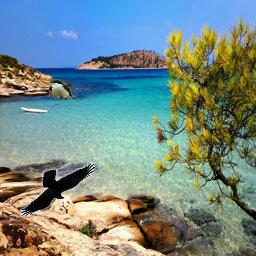Crow: (21, 163, 96, 218)
Swallow: (50, 79, 77, 99)
